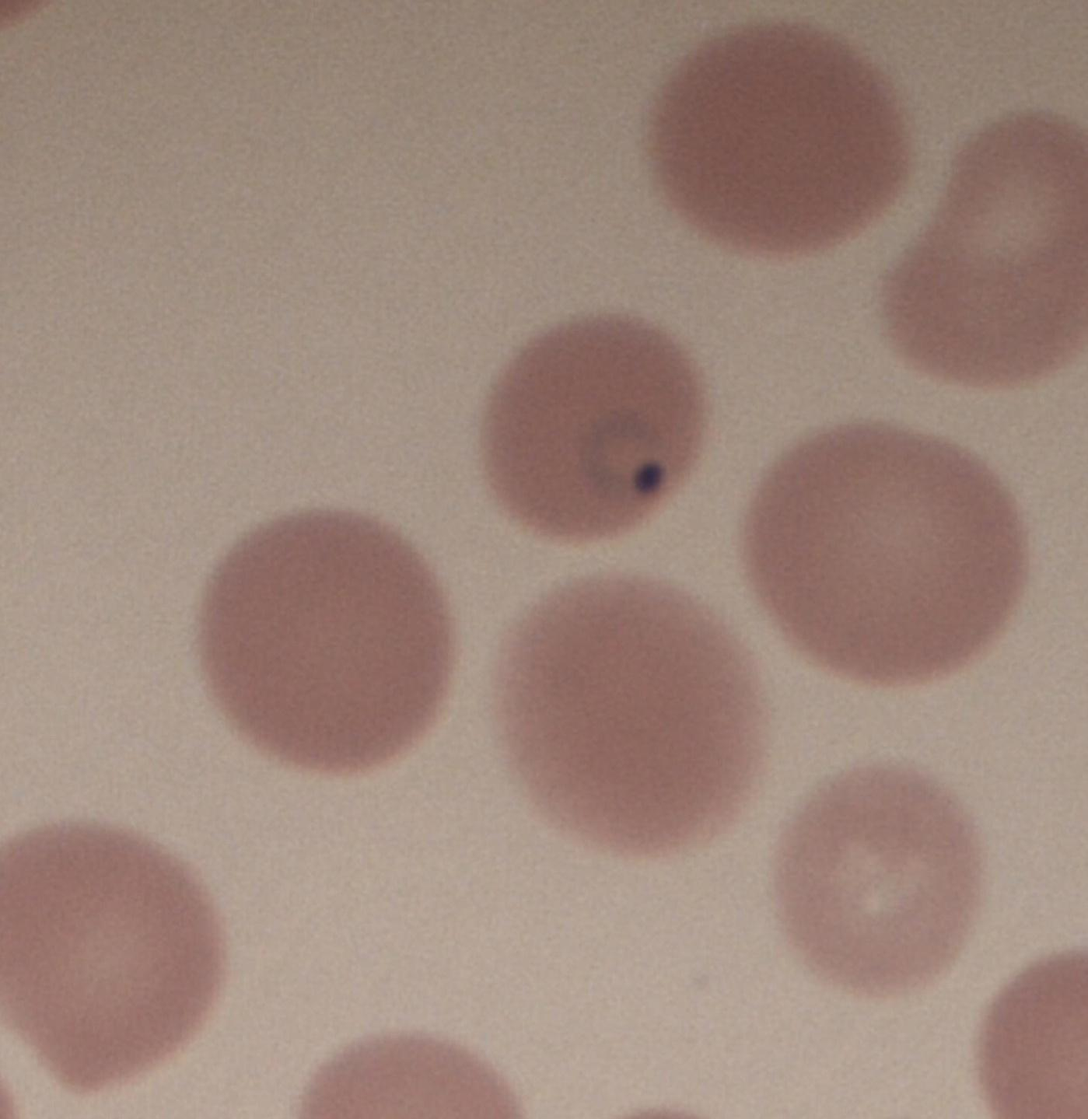Infected: (487, 307, 703, 535)
Uninfected: (741, 423, 1032, 679), (498, 581, 773, 850), (202, 506, 451, 769), (0, 820, 225, 1092), (658, 16, 904, 248), (773, 758, 989, 990)
